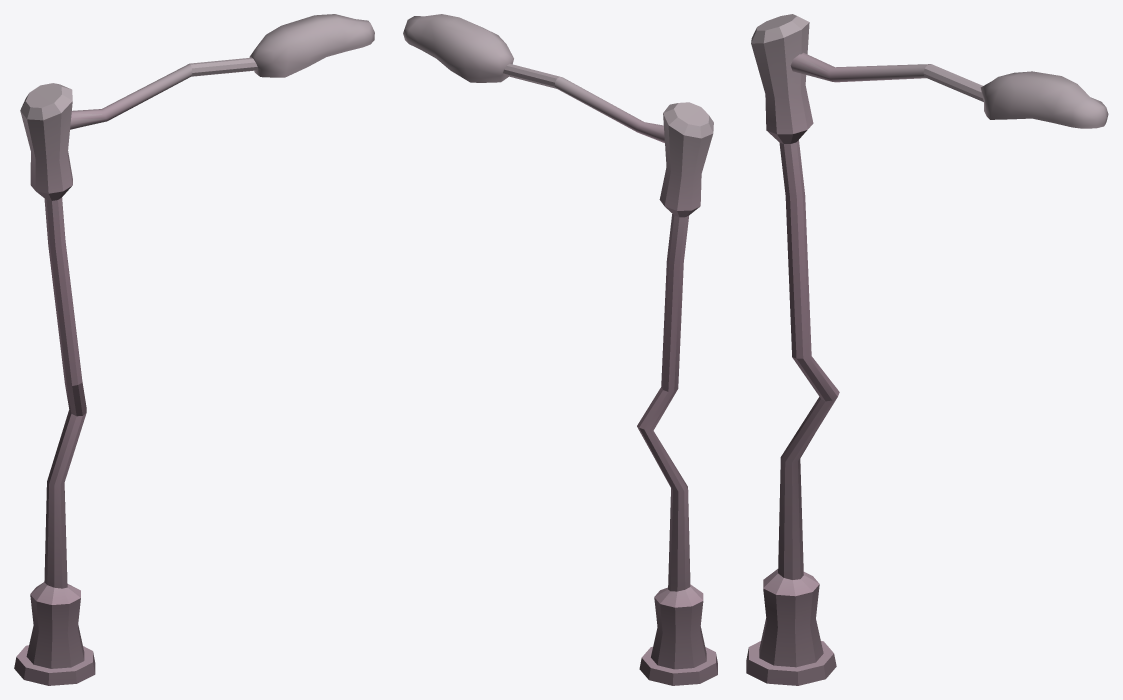
The model's file is SM_StreetLight.fbx.
3 views of the same model, side by side, from view 1: azimuth 30°, elevation 25°; view 2: azimuth 150°, elevation 25°; view 3: azimuth 330°, elevation 25° (orthographic). The views are drawn at different scales.
Visible parts, largest first — view 1: Cylinder003; view 2: Cylinder003; view 3: Cylinder003.
Boxes of the visible parts, <box> form: Cylinder003: <box>14,14,374,685</box>; Cylinder003: <box>403,14,717,685</box>; Cylinder003: <box>746,14,1108,685</box>.
Size of the model in its own units: 4.44 by 7.59 by 1.08.
